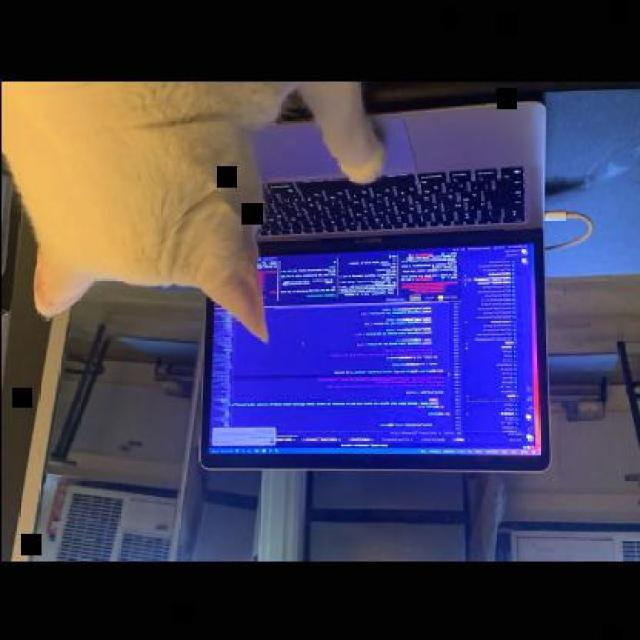unauthorized: (0, 80, 386, 343)
